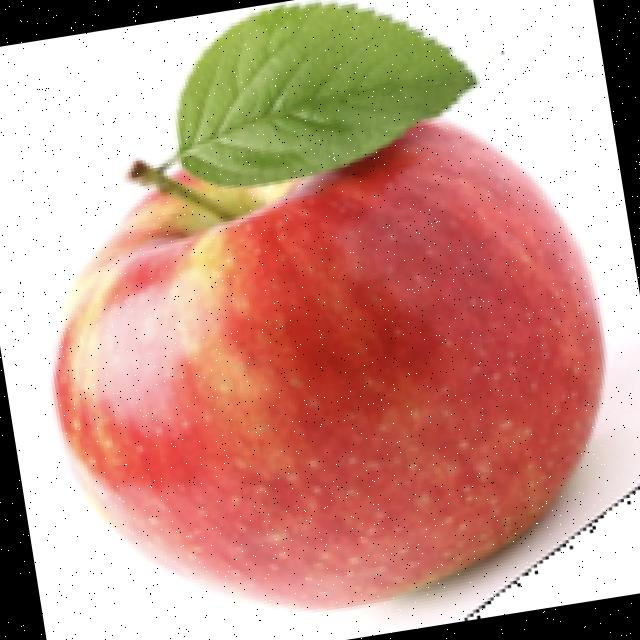apple: (45, 0, 640, 627)
